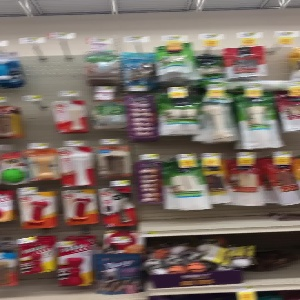void: (248, 234, 300, 280)
